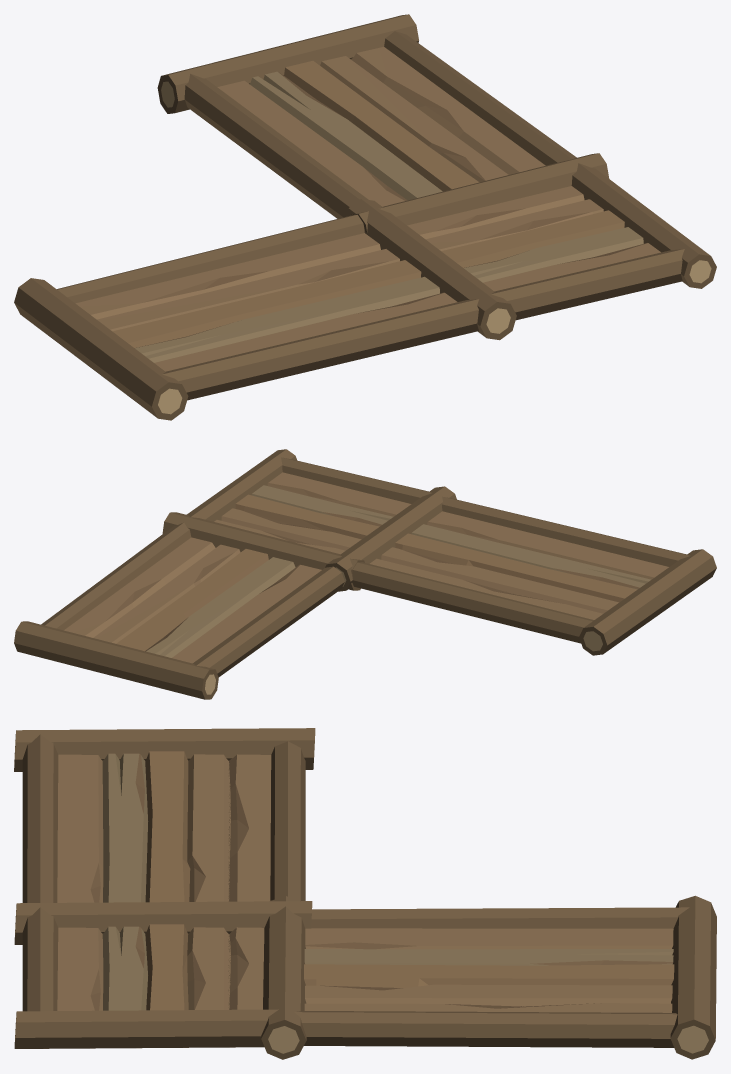
The model's file is rpgpp_ag_wall_platform_02_corner.fbx.
The picture shows the model from 3 angles, top to bottom: view 1: azimuth 30°, elevation 25°; view 2: azimuth 150°, elevation 25°; view 3: azimuth 270°, elevation 25°; orthographic projection. The views are drawn at different scales.
Parts seen in each view (by area): view 1: rpgpp_ag_wall_platform_02_corner; view 2: rpgpp_ag_wall_platform_02_corner; view 3: rpgpp_ag_wall_platform_02_corner.
Boxes of the visible parts, x1,y1,x2,y2 form: rpgpp_ag_wall_platform_02_corner: (14, 14, 716, 420); rpgpp_ag_wall_platform_02_corner: (14, 449, 716, 699); rpgpp_ag_wall_platform_02_corner: (14, 728, 716, 1059).
Size of the model in its own units: 6.27 by 0.4233 by 6.18.
